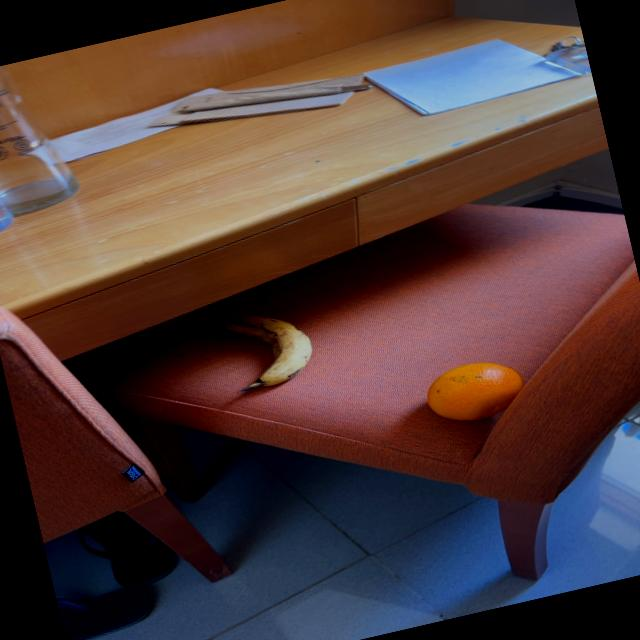bananas: (225, 316, 311, 390)
orange: (427, 363, 523, 419)
